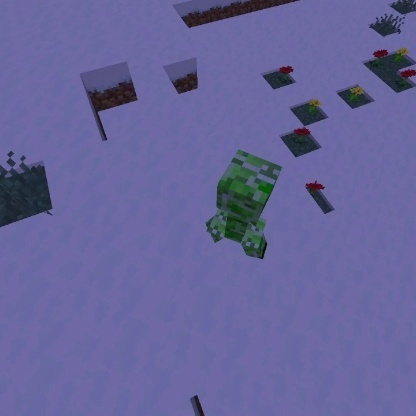creeper: (206, 147, 285, 263)
